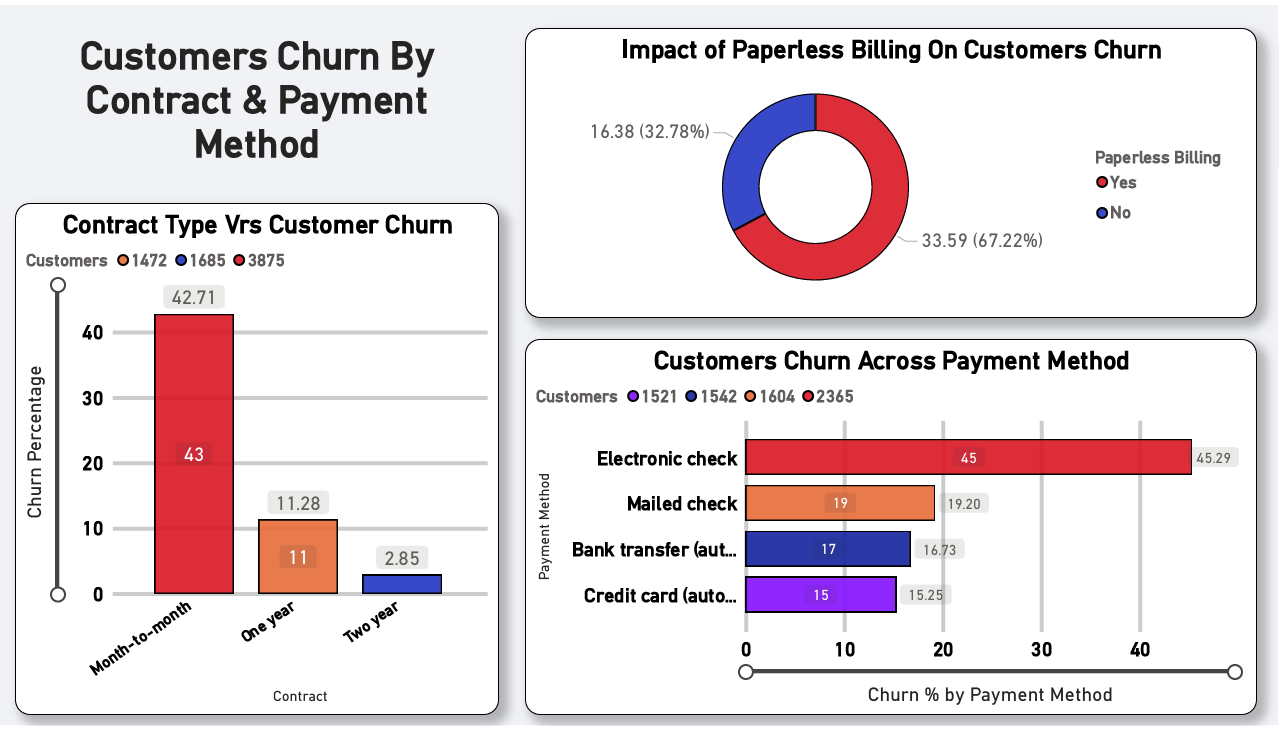

The page's visual inventory and layout, read from the dashboard file:
{"tool":"powerbi","page":{"name":"Contracts & Payment method","canvas":[1280,720],"ordinal":3},"visuals":[{"type":"barChart","title":"Customers Churn Across Payment Method","fields":{"Category":["Query12.PaymentMethod"],"Y":["Sum(Query12.Churn_percentage)"],"Series":["Query12.customers"]},"box":[526.2,333.4,731.4,375.7],"z":0},{"type":"donutChart","title":"Impact of Paperless Billing On Customers Churn","fields":{"Category":["Query13.PaperlessBilling"],"Y":["Sum(Query13.Churn_percentage)"],"Series":["Query13.customers"]},"box":[526.2,22.4,731.4,289.8],"z":1000},{"type":"columnChart","title":"Contract Type Vrs Customer Churn","fields":{"Category":["Query11.Contract"],"Y":["Sum(Query11.Churn_percentage)"],"Series":["Query11.customers"]},"box":[16.2,196.5,483.9,512.5],"z":2000},{"type":"textbox","box":[16.2,22.4,483.9,145.5],"z":3000}]}

Visuals, with their boxes in screenshot pixels (x1, y1, x2, y2), scaled from the page's 1280x720 canvas onto the 1287x732 screenshot:
"Customers Churn Across Payment Method" barChart: detection(529, 339, 1264, 721)
"Impact of Paperless Billing On Customers Churn" donutChart: detection(529, 23, 1264, 317)
"Contract Type Vrs Customer Churn" columnChart: detection(16, 200, 503, 721)
textbox: detection(16, 23, 503, 171)
